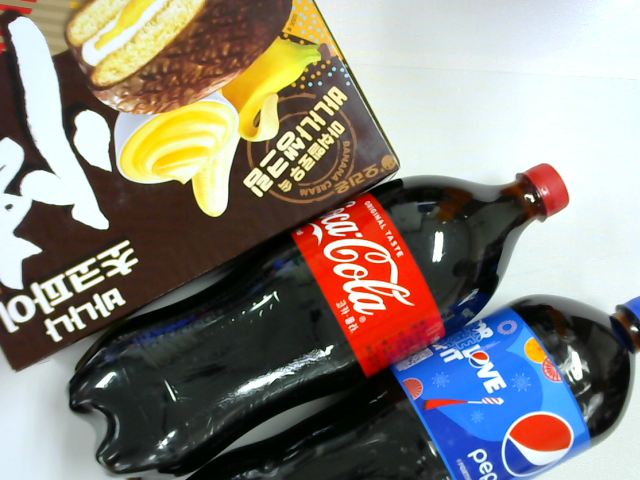Choco_Pie_Banana: (1, 7, 362, 311)
Coca_Cola_1.5L: (76, 157, 575, 471)
Pepsi_Cola_1.5L: (201, 305, 640, 478)
